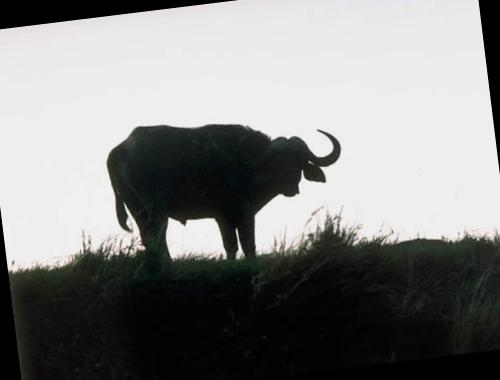Buffalo: (64, 38, 394, 332)
